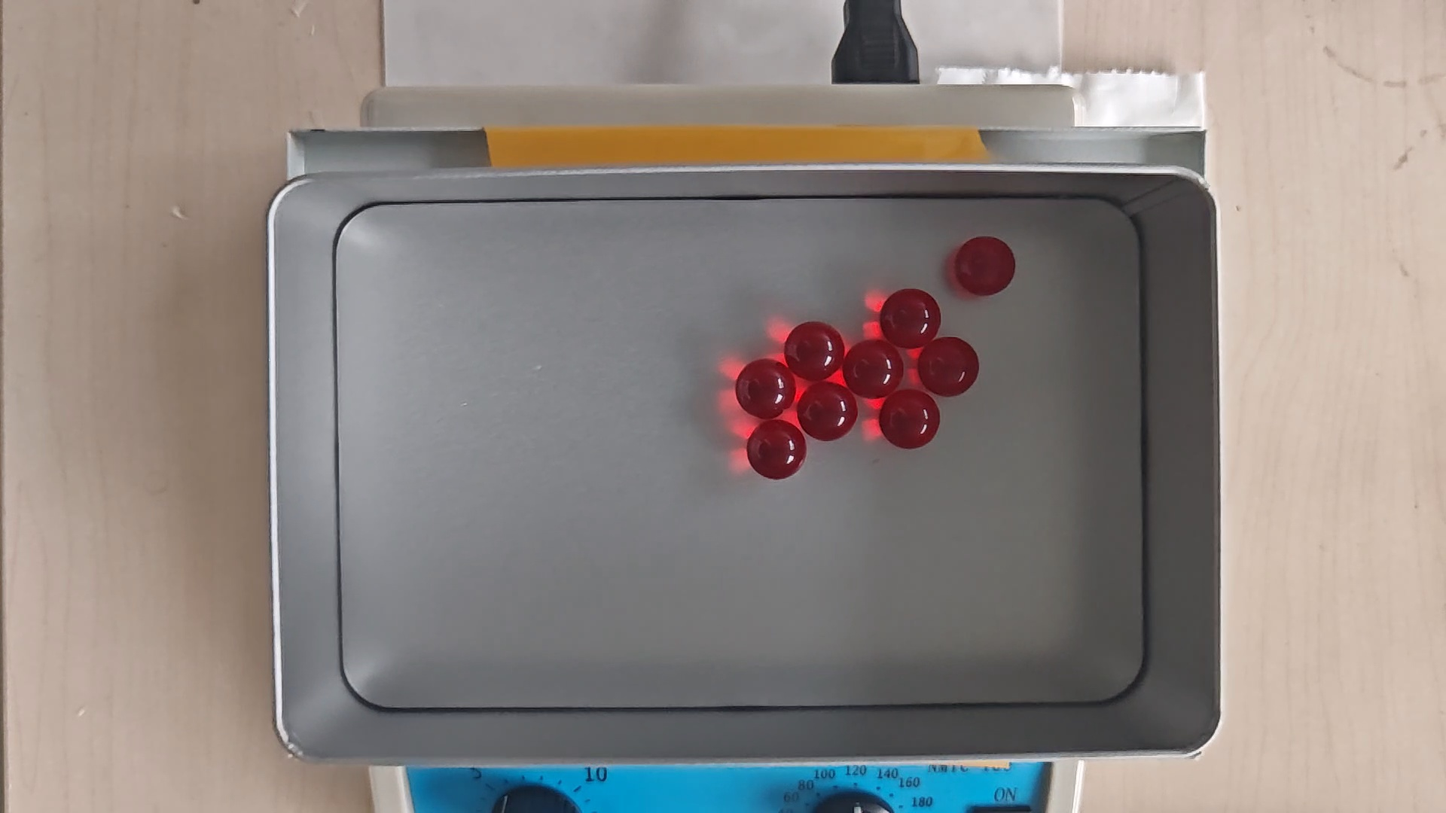ball: (954, 235, 1015, 297), (880, 388, 940, 451), (784, 321, 845, 382), (735, 358, 796, 418), (747, 419, 807, 480), (919, 337, 979, 397), (880, 288, 940, 347), (845, 340, 903, 397), (799, 383, 856, 441)
container: (337, 197, 1144, 708)
